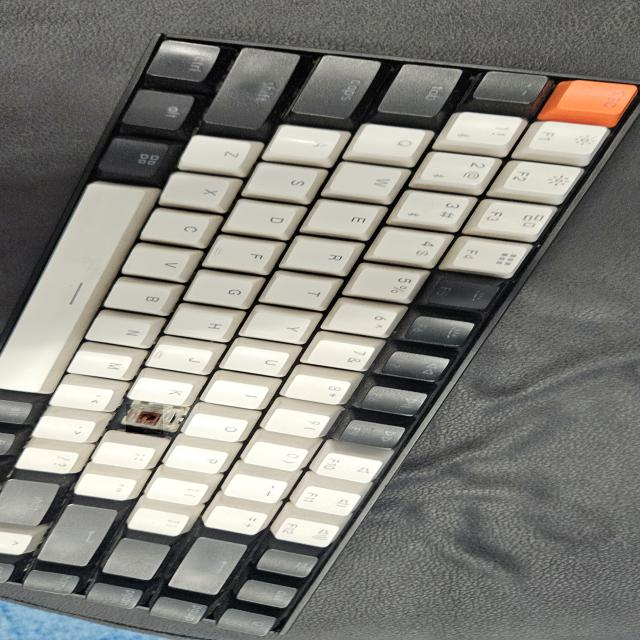C: (126, 404, 163, 434)
